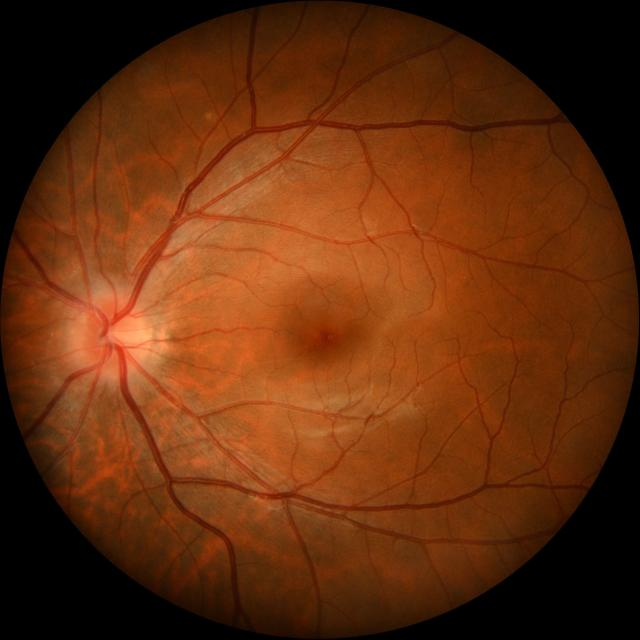OC: (106, 323, 134, 351)
OD: (79, 294, 149, 378)
